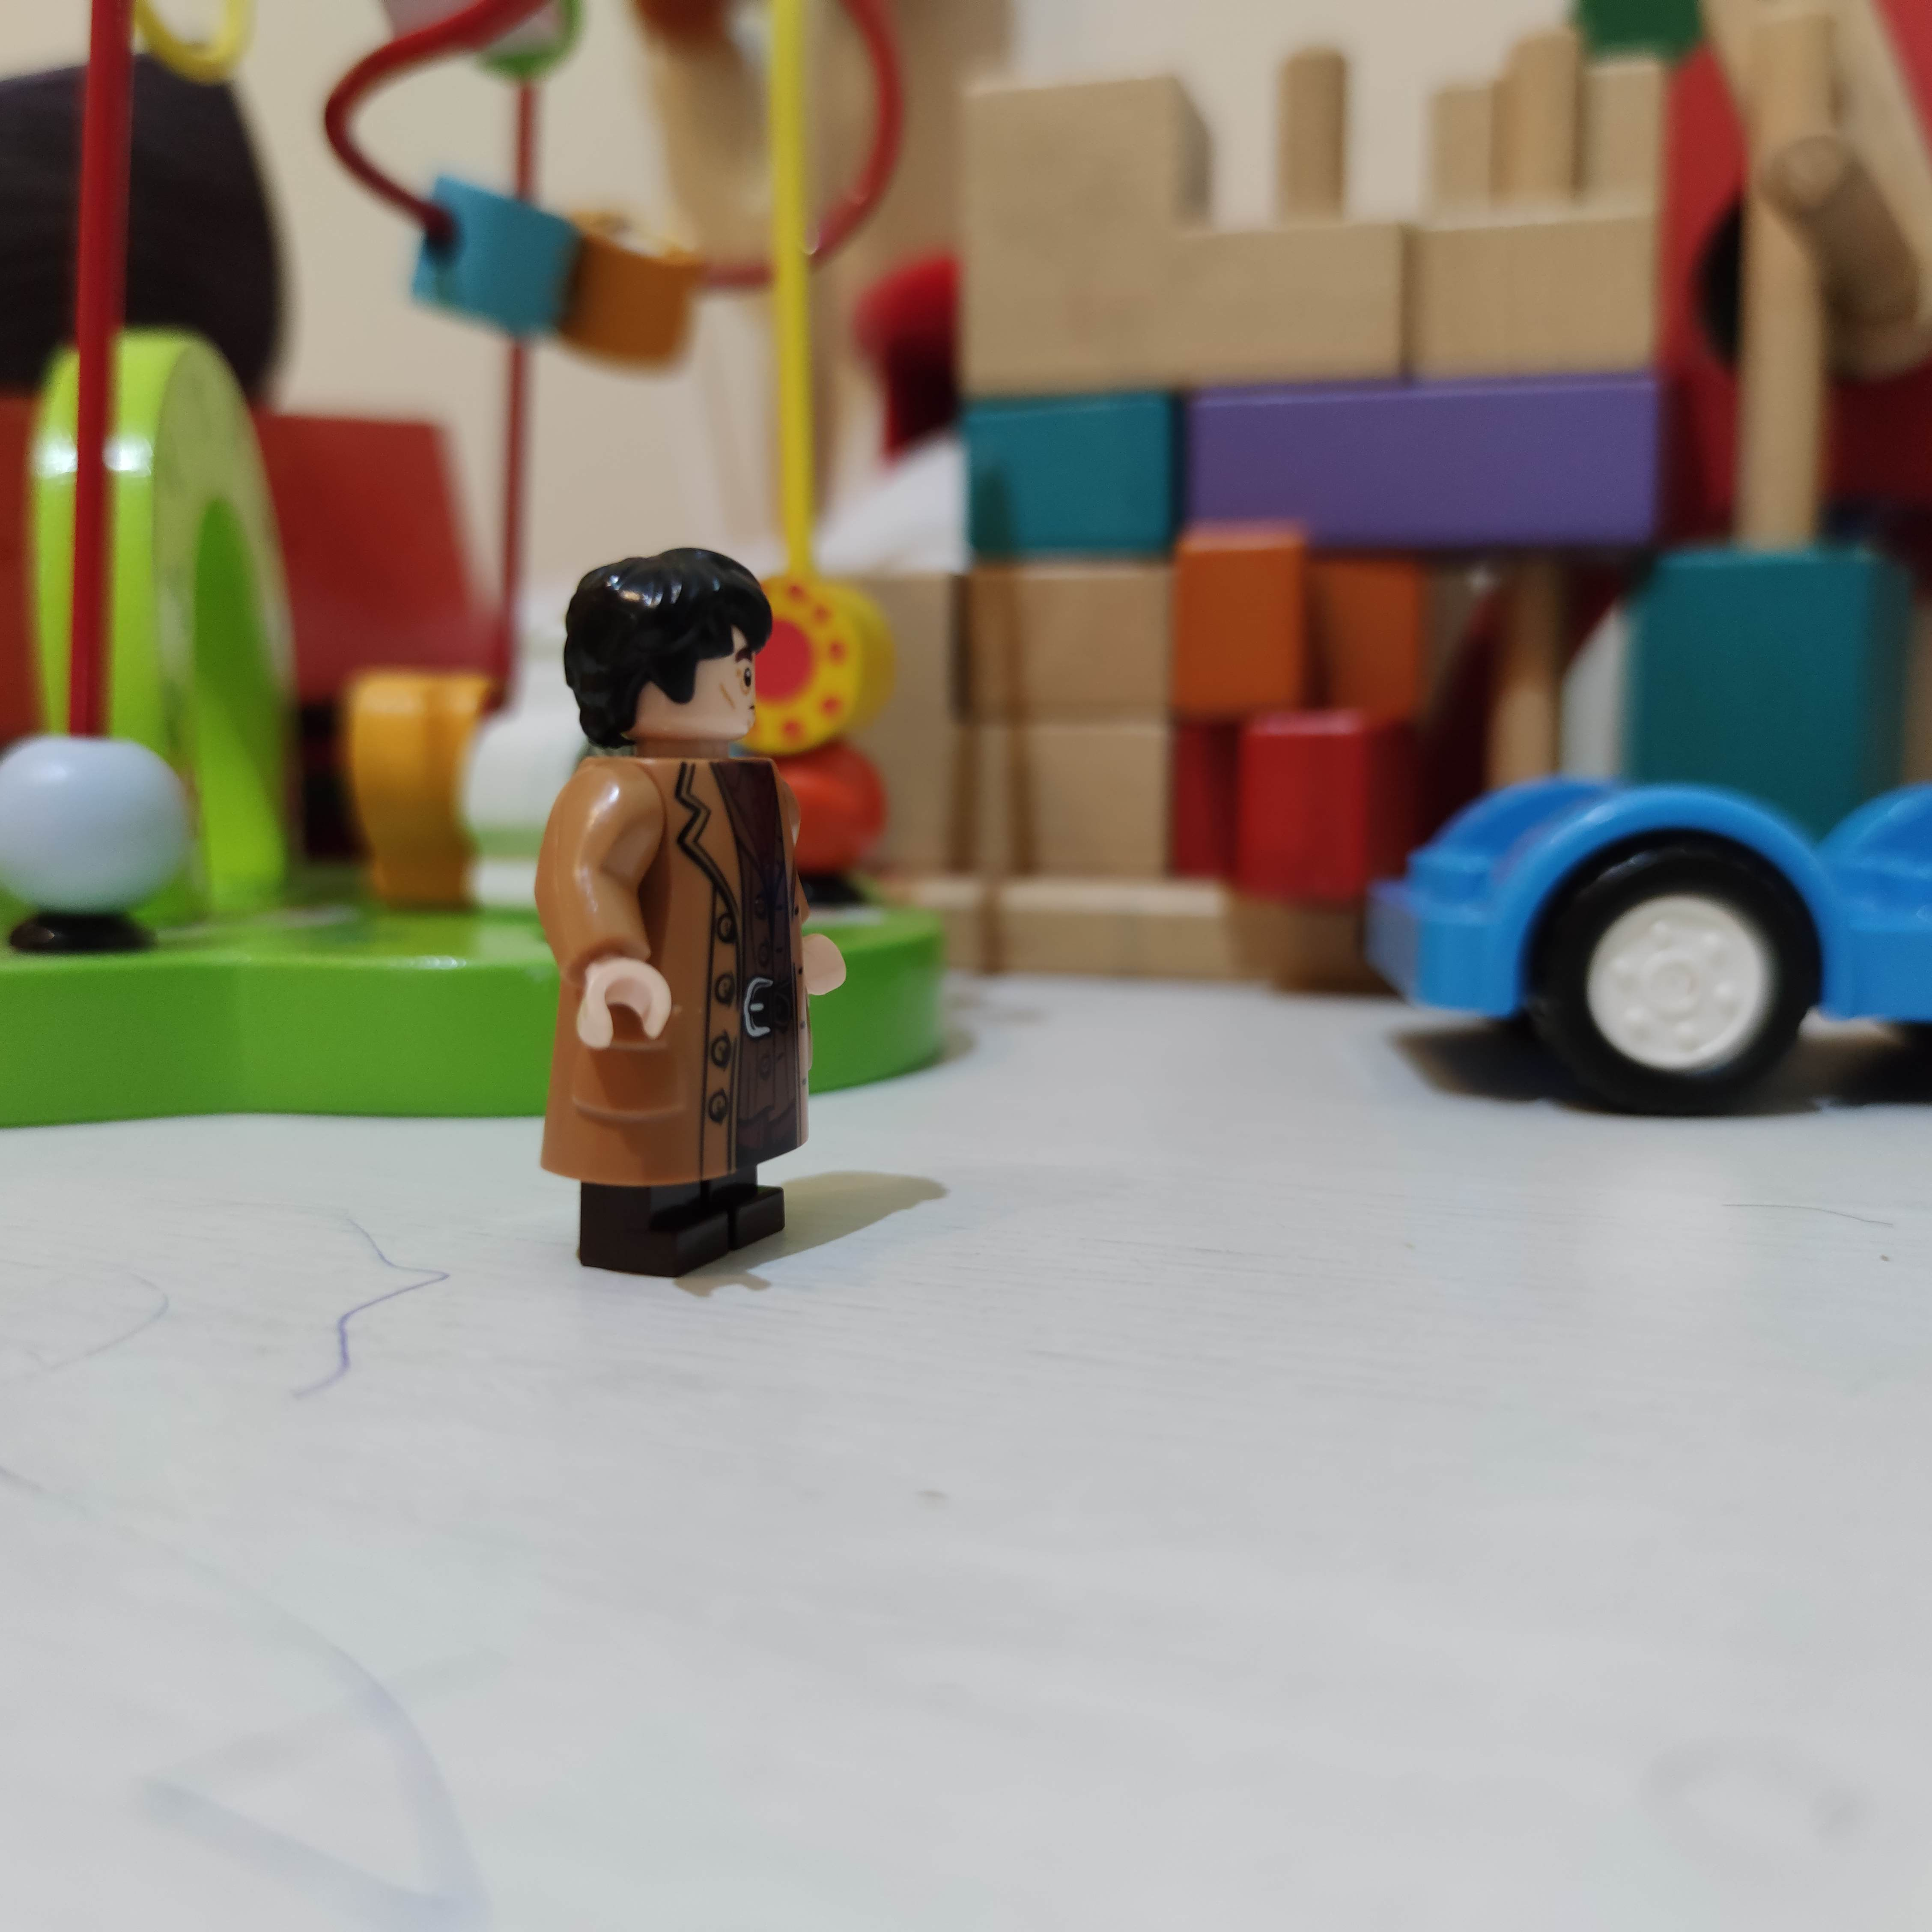lego: (541, 545, 851, 1292)
